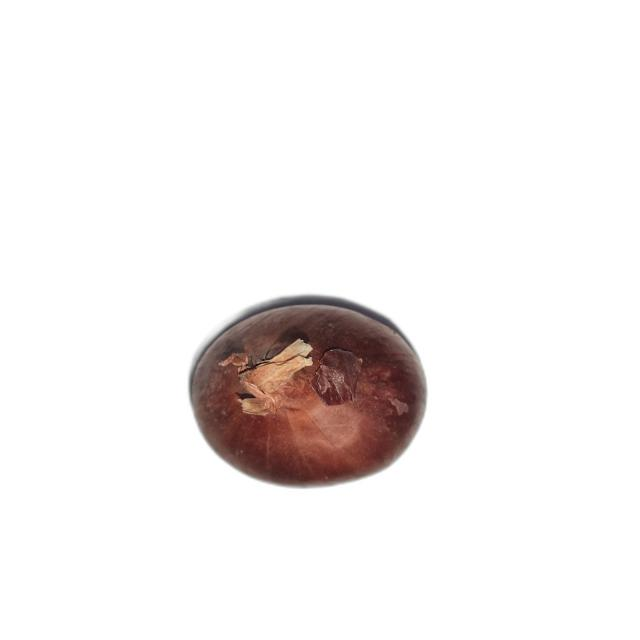onion: (190, 304, 427, 488)
